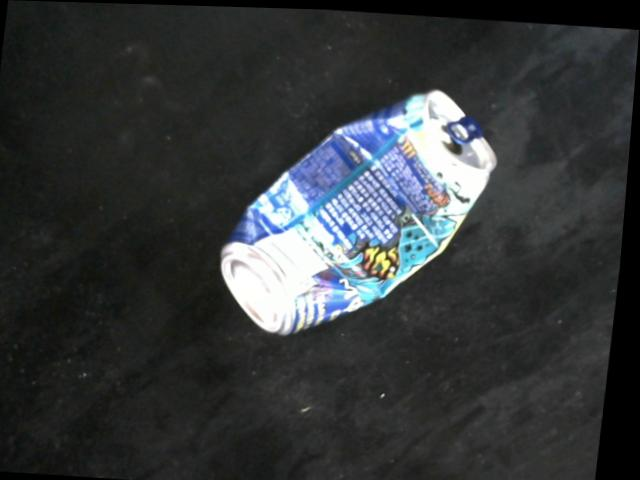can: (219, 73, 516, 359)
